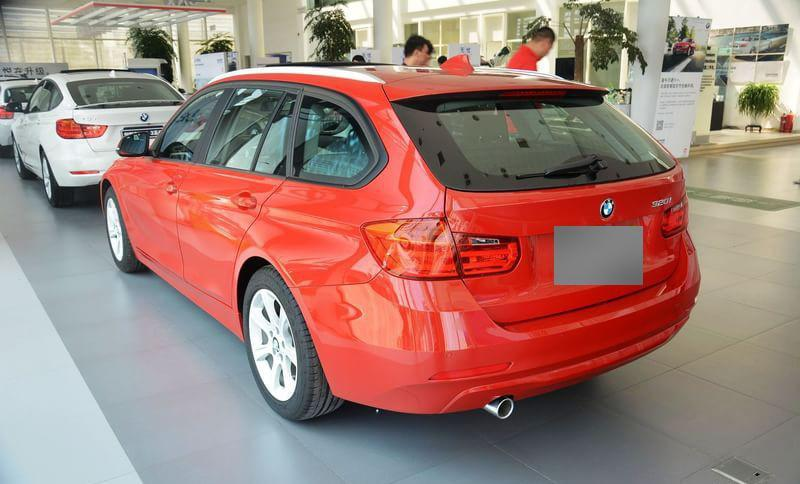Wagon: (99, 52, 702, 424)
